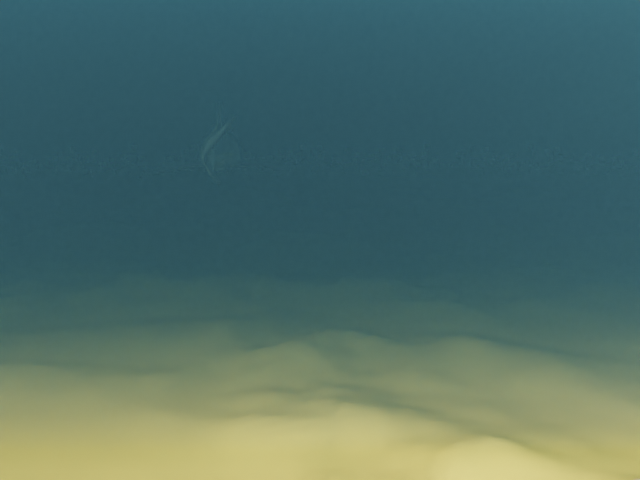Carribean Shark.001: (152, 103, 287, 184)
